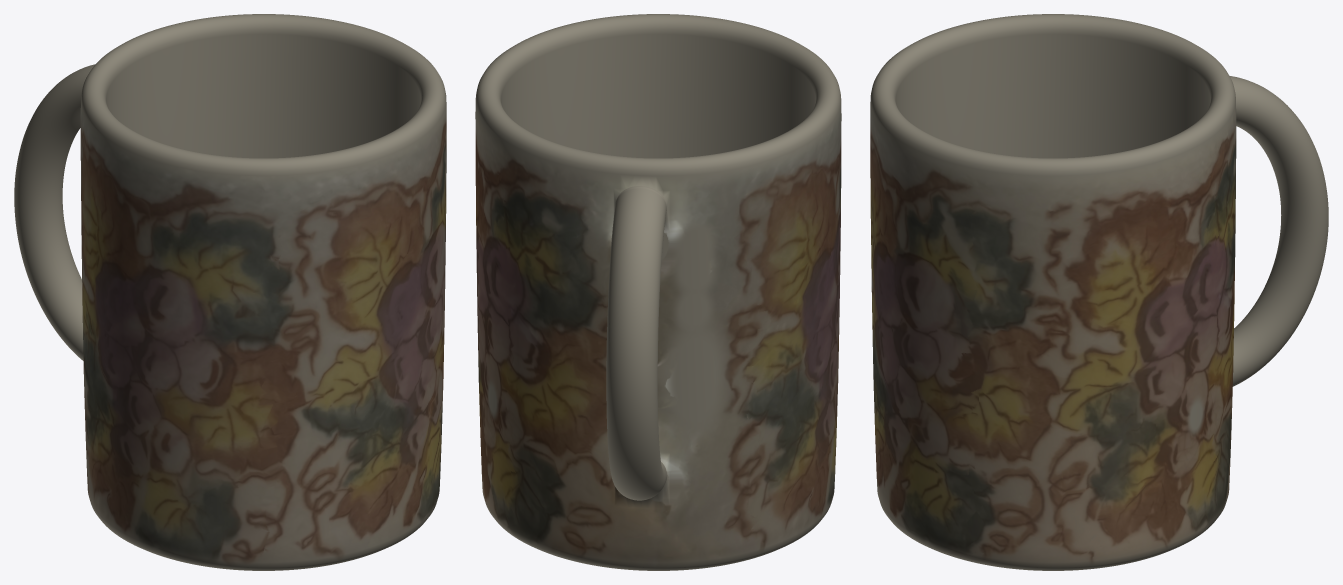
The model's file is flower_mug_g.glb.
3 views of the same model, side by side, from view 1: azimuth 30°, elevation 25°; view 2: azimuth 150°, elevation 25°; view 3: azimuth 270°, elevation 25° (orthographic).
Visible parts, largest first — view 1: Flower Mug; view 2: Flower Mug; view 3: Flower Mug.
Boxes of the visible parts, x1,y1,x2,y2 form: Flower Mug: (14,14,446,570); Flower Mug: (475,14,841,570); Flower Mug: (870,14,1328,570).
Bounding box in the file's own units: 0.0767 × 0.096 × 0.0961.
2 materials, 1 textured.
